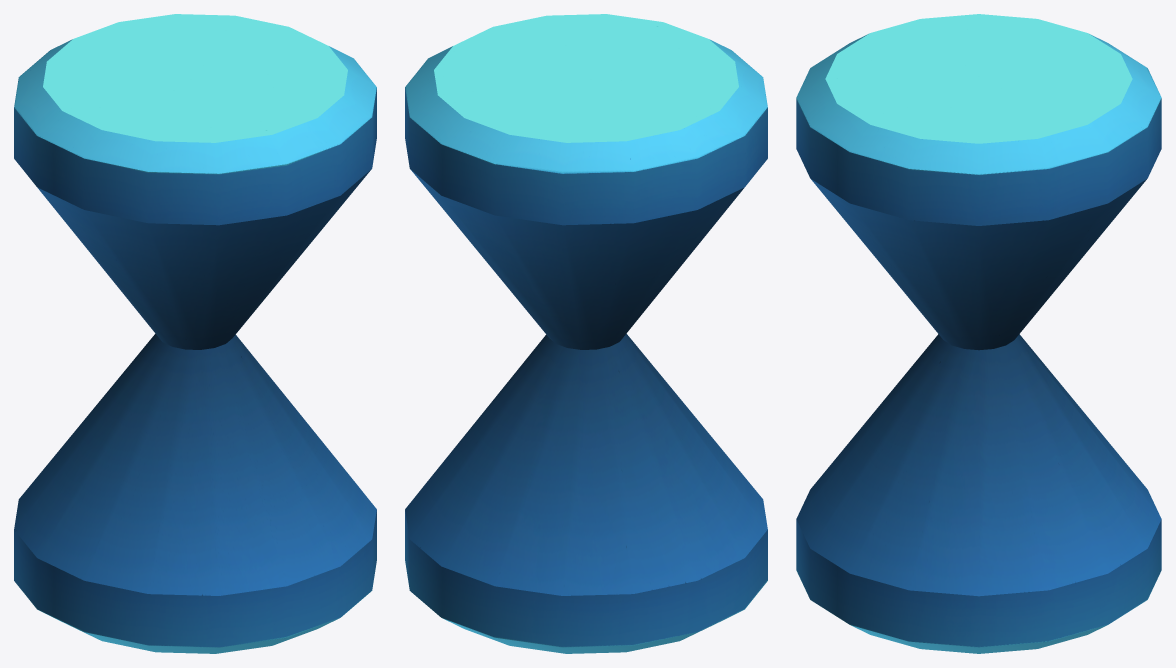
The model's file is diabloBlue.fbx.
The picture shows the model from 3 angles, left to right: view 1: azimuth 30°, elevation 25°; view 2: azimuth 150°, elevation 25°; view 3: azimuth 270°, elevation 25°; orthographic projection.
Visible parts, largest first — view 1: diabloBlue; view 2: diabloBlue; view 3: diabloBlue.
Boxes of the visible parts, left/top/right/bottom form: diabloBlue: left=14, top=14, right=376, bottom=653; diabloBlue: left=405, top=14, right=767, bottom=653; diabloBlue: left=796, top=14, right=1161, bottom=653.
Size of the model in its own units: 0.0512 by 0.0789 by 0.0512.
